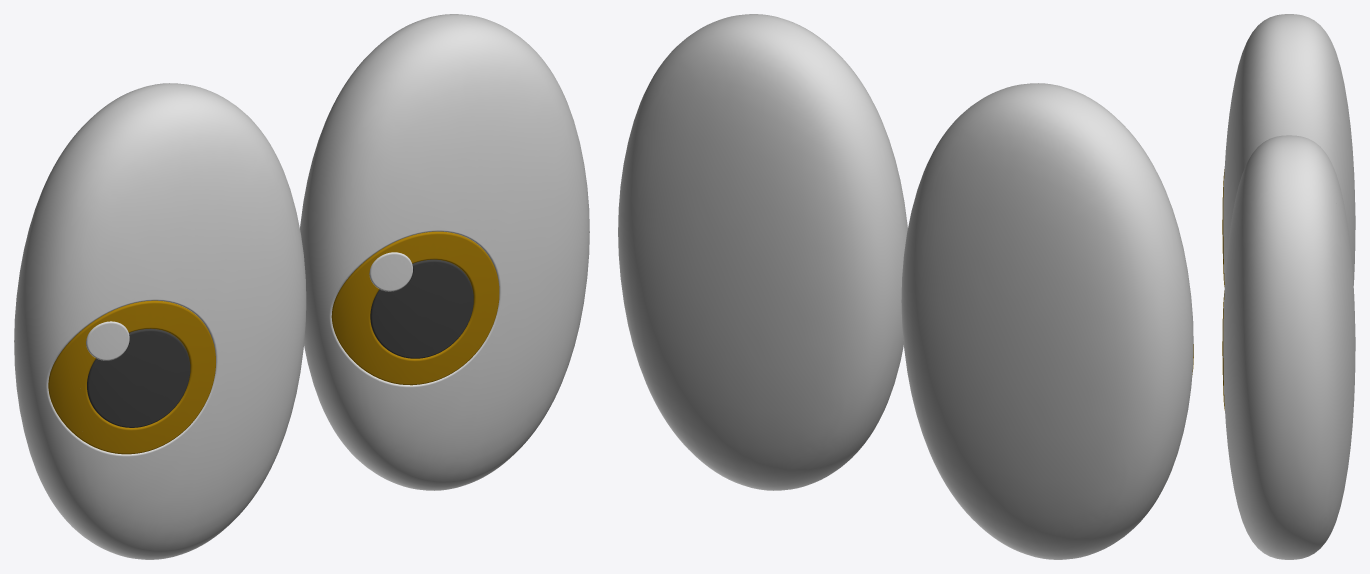
3 renders of one model, left to right at view 1: azimuth 30°, elevation 25°; view 2: azimuth 150°, elevation 25°; view 3: azimuth 270°, elevation 25°, orthographic. The views are drawn at different scales.
Visible parts, largest first — view 1: model23; view 2: model23; view 3: model23.
Part boxes in pixels (x1,y1,x2,y2): model23: (14,14,589,559); model23: (618,14,1193,559); model23: (1222,14,1355,559).
Size of the model in its own units: 0.179 by 0.1418 by 0.0422.
